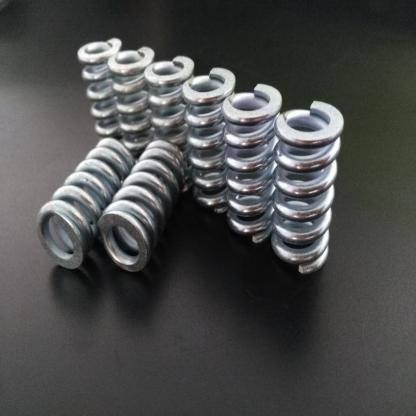FOD: (32, 136, 134, 276), (270, 98, 346, 278), (97, 138, 188, 275), (220, 79, 283, 247), (181, 64, 237, 210), (76, 34, 124, 134)
